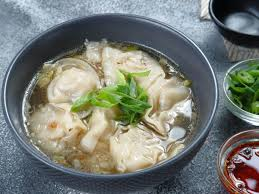Pangsit: (101, 41, 165, 94), (36, 59, 104, 104), (103, 130, 172, 170), (27, 106, 86, 147)
